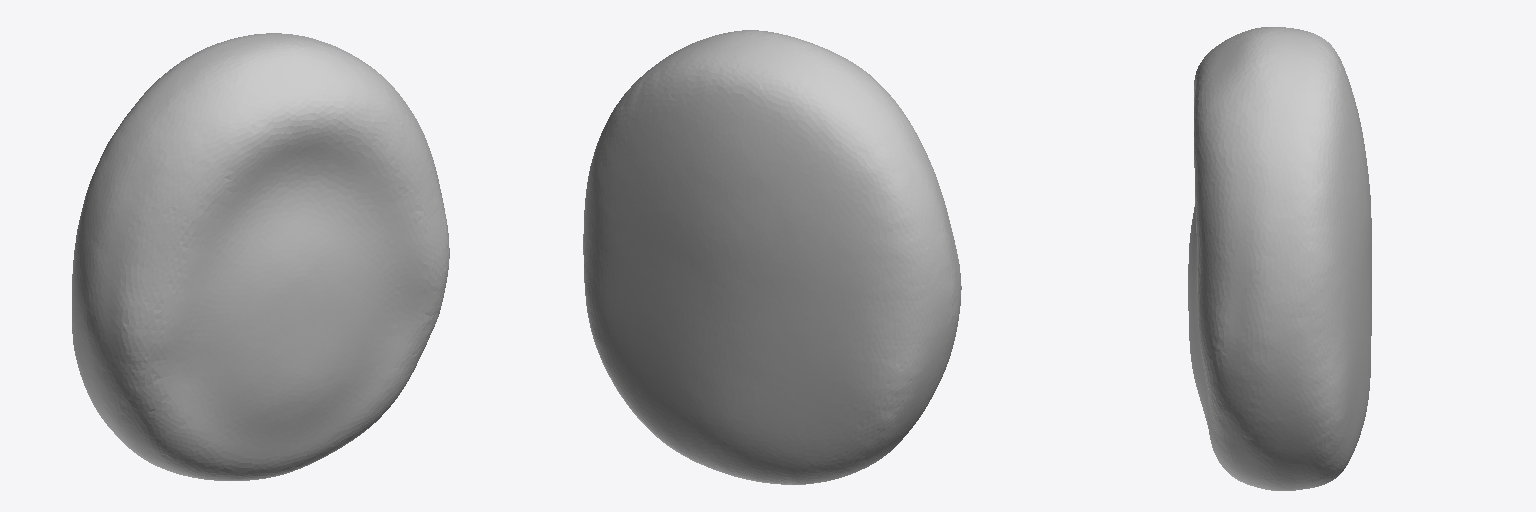
File: back2.obj
3 renders of one model, left to right at view 1: azimuth 30°, elevation 25°; view 2: azimuth 150°, elevation 25°; view 3: azimuth 270°, elevation 25°, orthographic.
Visible parts, largest first — view 1: Group12609; view 2: Group12609; view 3: Group12609.
Boxes of the visible parts, <box> form: Group12609: <box>72,33,449,480</box>; Group12609: <box>583,30,961,484</box>; Group12609: <box>1188,27,1371,490</box>.
Size of the model in its own units: 0.3504 by 0.4032 by 0.1574.